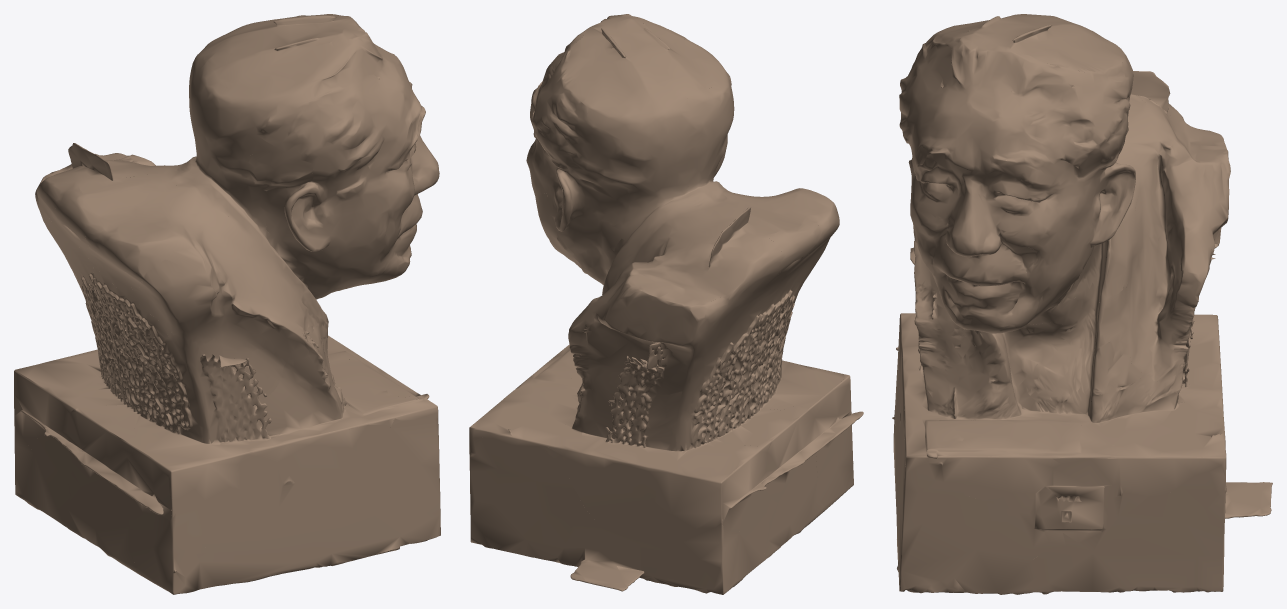
File: yuan-h31.glb
The picture shows the model from 3 angles, left to right: view 1: azimuth 30°, elevation 25°; view 2: azimuth 150°, elevation 25°; view 3: azimuth 270°, elevation 25°; orthographic projection. The views are drawn at different scales.
Visible parts, largest first — view 1: tripo_node_1e362390-e7c6-459c-a6c8-8de0525f3187; view 2: tripo_node_1e362390-e7c6-459c-a6c8-8de0525f3187; view 3: tripo_node_1e362390-e7c6-459c-a6c8-8de0525f3187.
Boxes of the visible parts, bbox=[...] form: tripo_node_1e362390-e7c6-459c-a6c8-8de0525f3187: bbox=[14, 14, 440, 594]; tripo_node_1e362390-e7c6-459c-a6c8-8de0525f3187: bbox=[469, 14, 863, 594]; tripo_node_1e362390-e7c6-459c-a6c8-8de0525f3187: bbox=[892, 14, 1272, 594].
Size of the model in its own units: 2.08 by 3.05 by 1.98.
